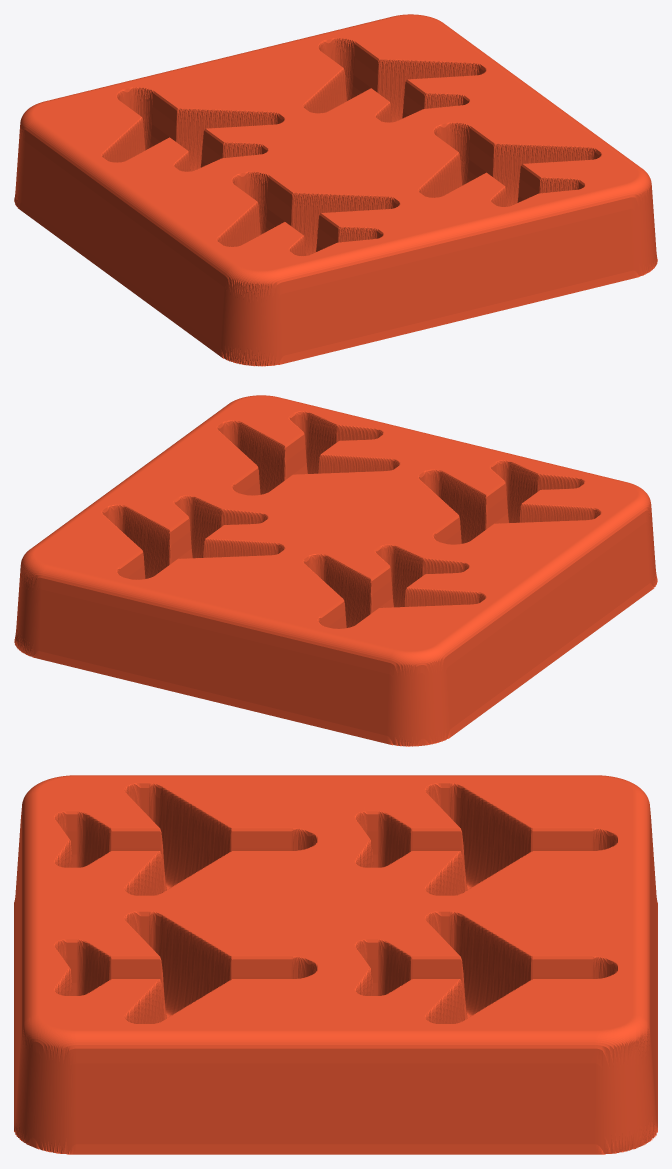
Rendered from mold.glb.
The picture shows the model from 3 angles, top to bottom: view 1: azimuth 30°, elevation 25°; view 2: azimuth 150°, elevation 25°; view 3: azimuth 270°, elevation 25°; orthographic projection. The views are drawn at different scales.
Parts seen in each view (by area): view 1: geometry_0; view 2: geometry_0; view 3: geometry_0.
Part boxes in pixels (<box>): geometry_0: <box>14,14,657,366</box>; geometry_0: <box>14,395,657,746</box>; geometry_0: <box>14,775,657,1154</box>.
Bounding box in the file's own units: 0.0942 × 0.0182 × 0.0934.
